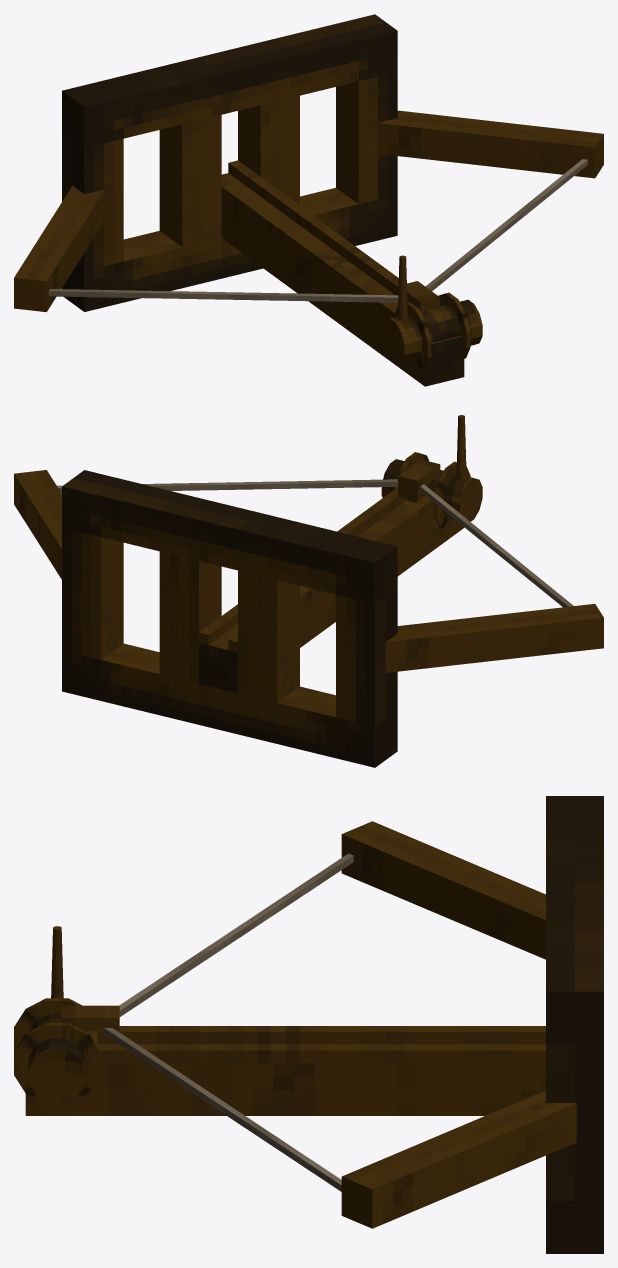
Rendered from BallistaShooter.obj.
The picture shows the model from 3 angles, top to bottom: view 1: azimuth 30°, elevation 25°; view 2: azimuth 150°, elevation 25°; view 3: azimuth 270°, elevation 25°; orthographic projection. The views are drawn at different scales.
Visible parts, largest first — view 1: cuboid, cylinder; view 2: cuboid, cylinder; view 3: cuboid, cylinder.
Boxes of the visible parts, x1,y1,x2,y2 form: cuboid: (14,14,603,386); cylinder: (381,255,482,370); cuboid: (14,459,603,767); cylinder: (381,415,482,530); cuboid: (25,796,603,1253); cylinder: (14,926,100,1103).
Size of the model in its own units: 1.88 by 0.625 by 1.27.
